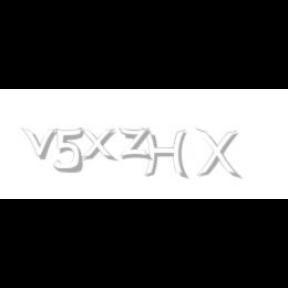5: (54, 128, 84, 174)
H: (142, 128, 188, 180)
X: (195, 128, 239, 180)
v: (21, 128, 61, 160)
x: (79, 128, 121, 162)
z: (118, 128, 154, 160)
